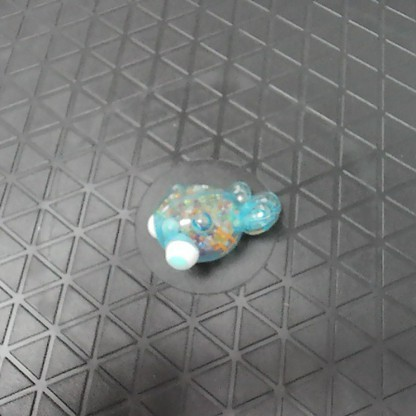bluefish: (140, 178, 281, 273)
